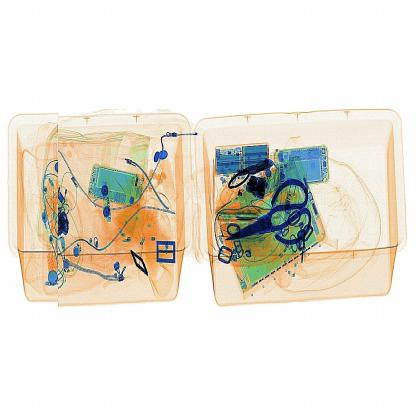gun: (217, 183, 327, 260)
